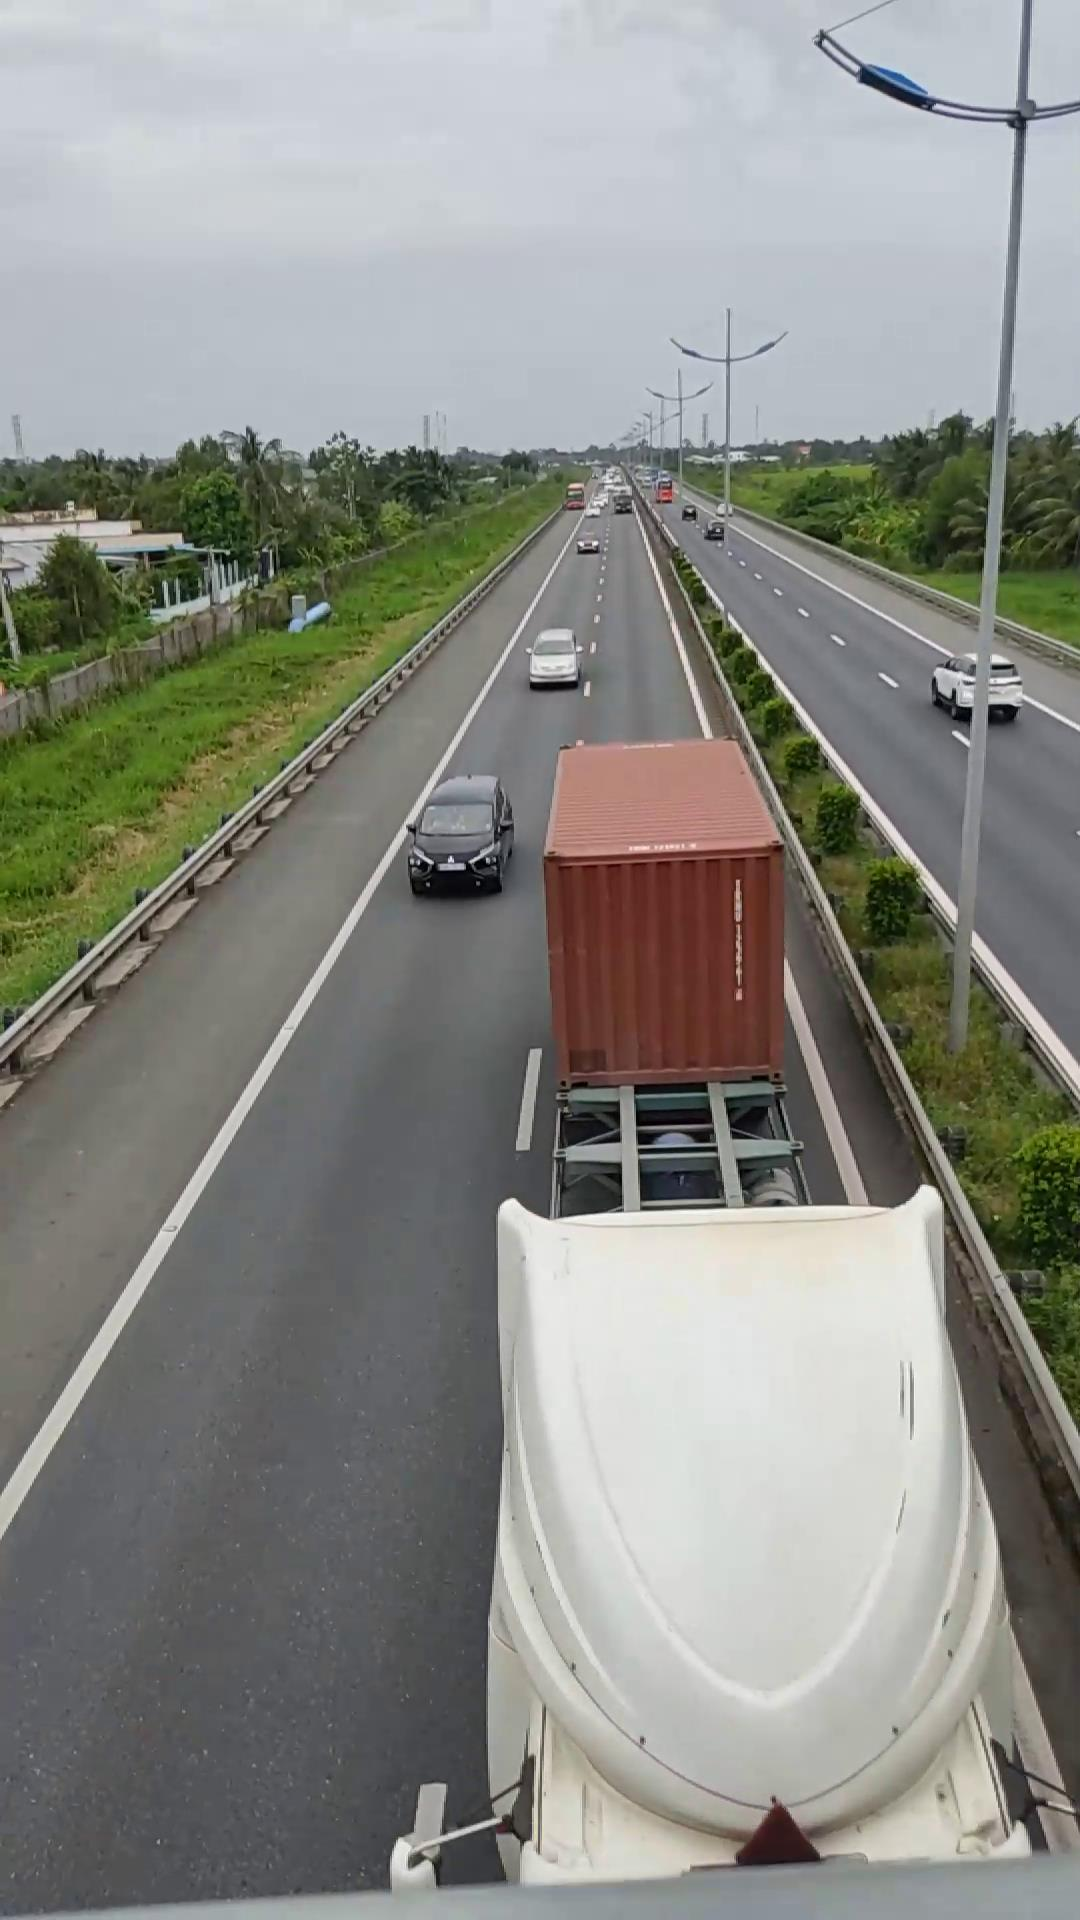car: (405, 772, 516, 894), (524, 627, 592, 689)
container: (475, 726, 1016, 1876)
